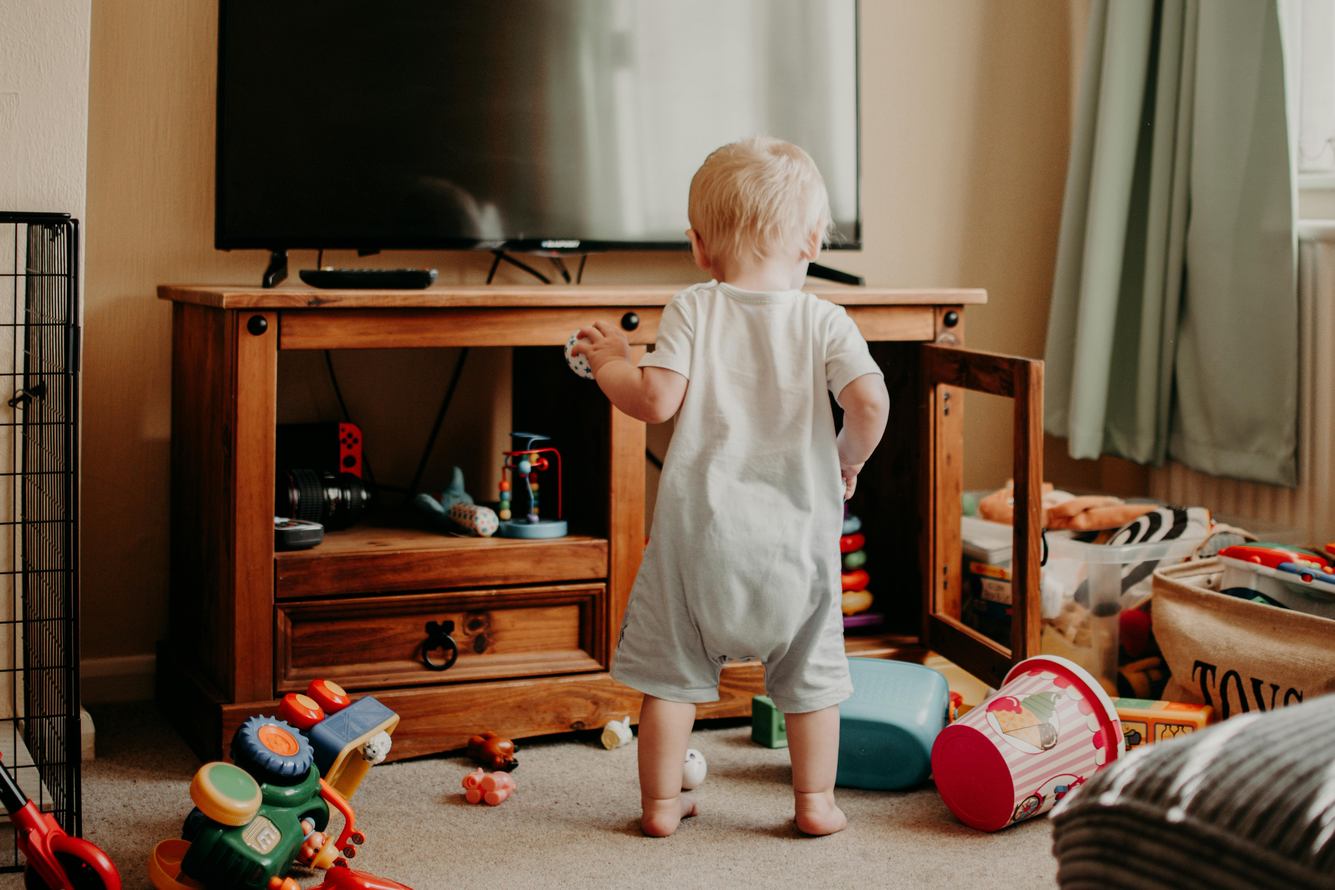Human: (553, 140, 878, 823)
